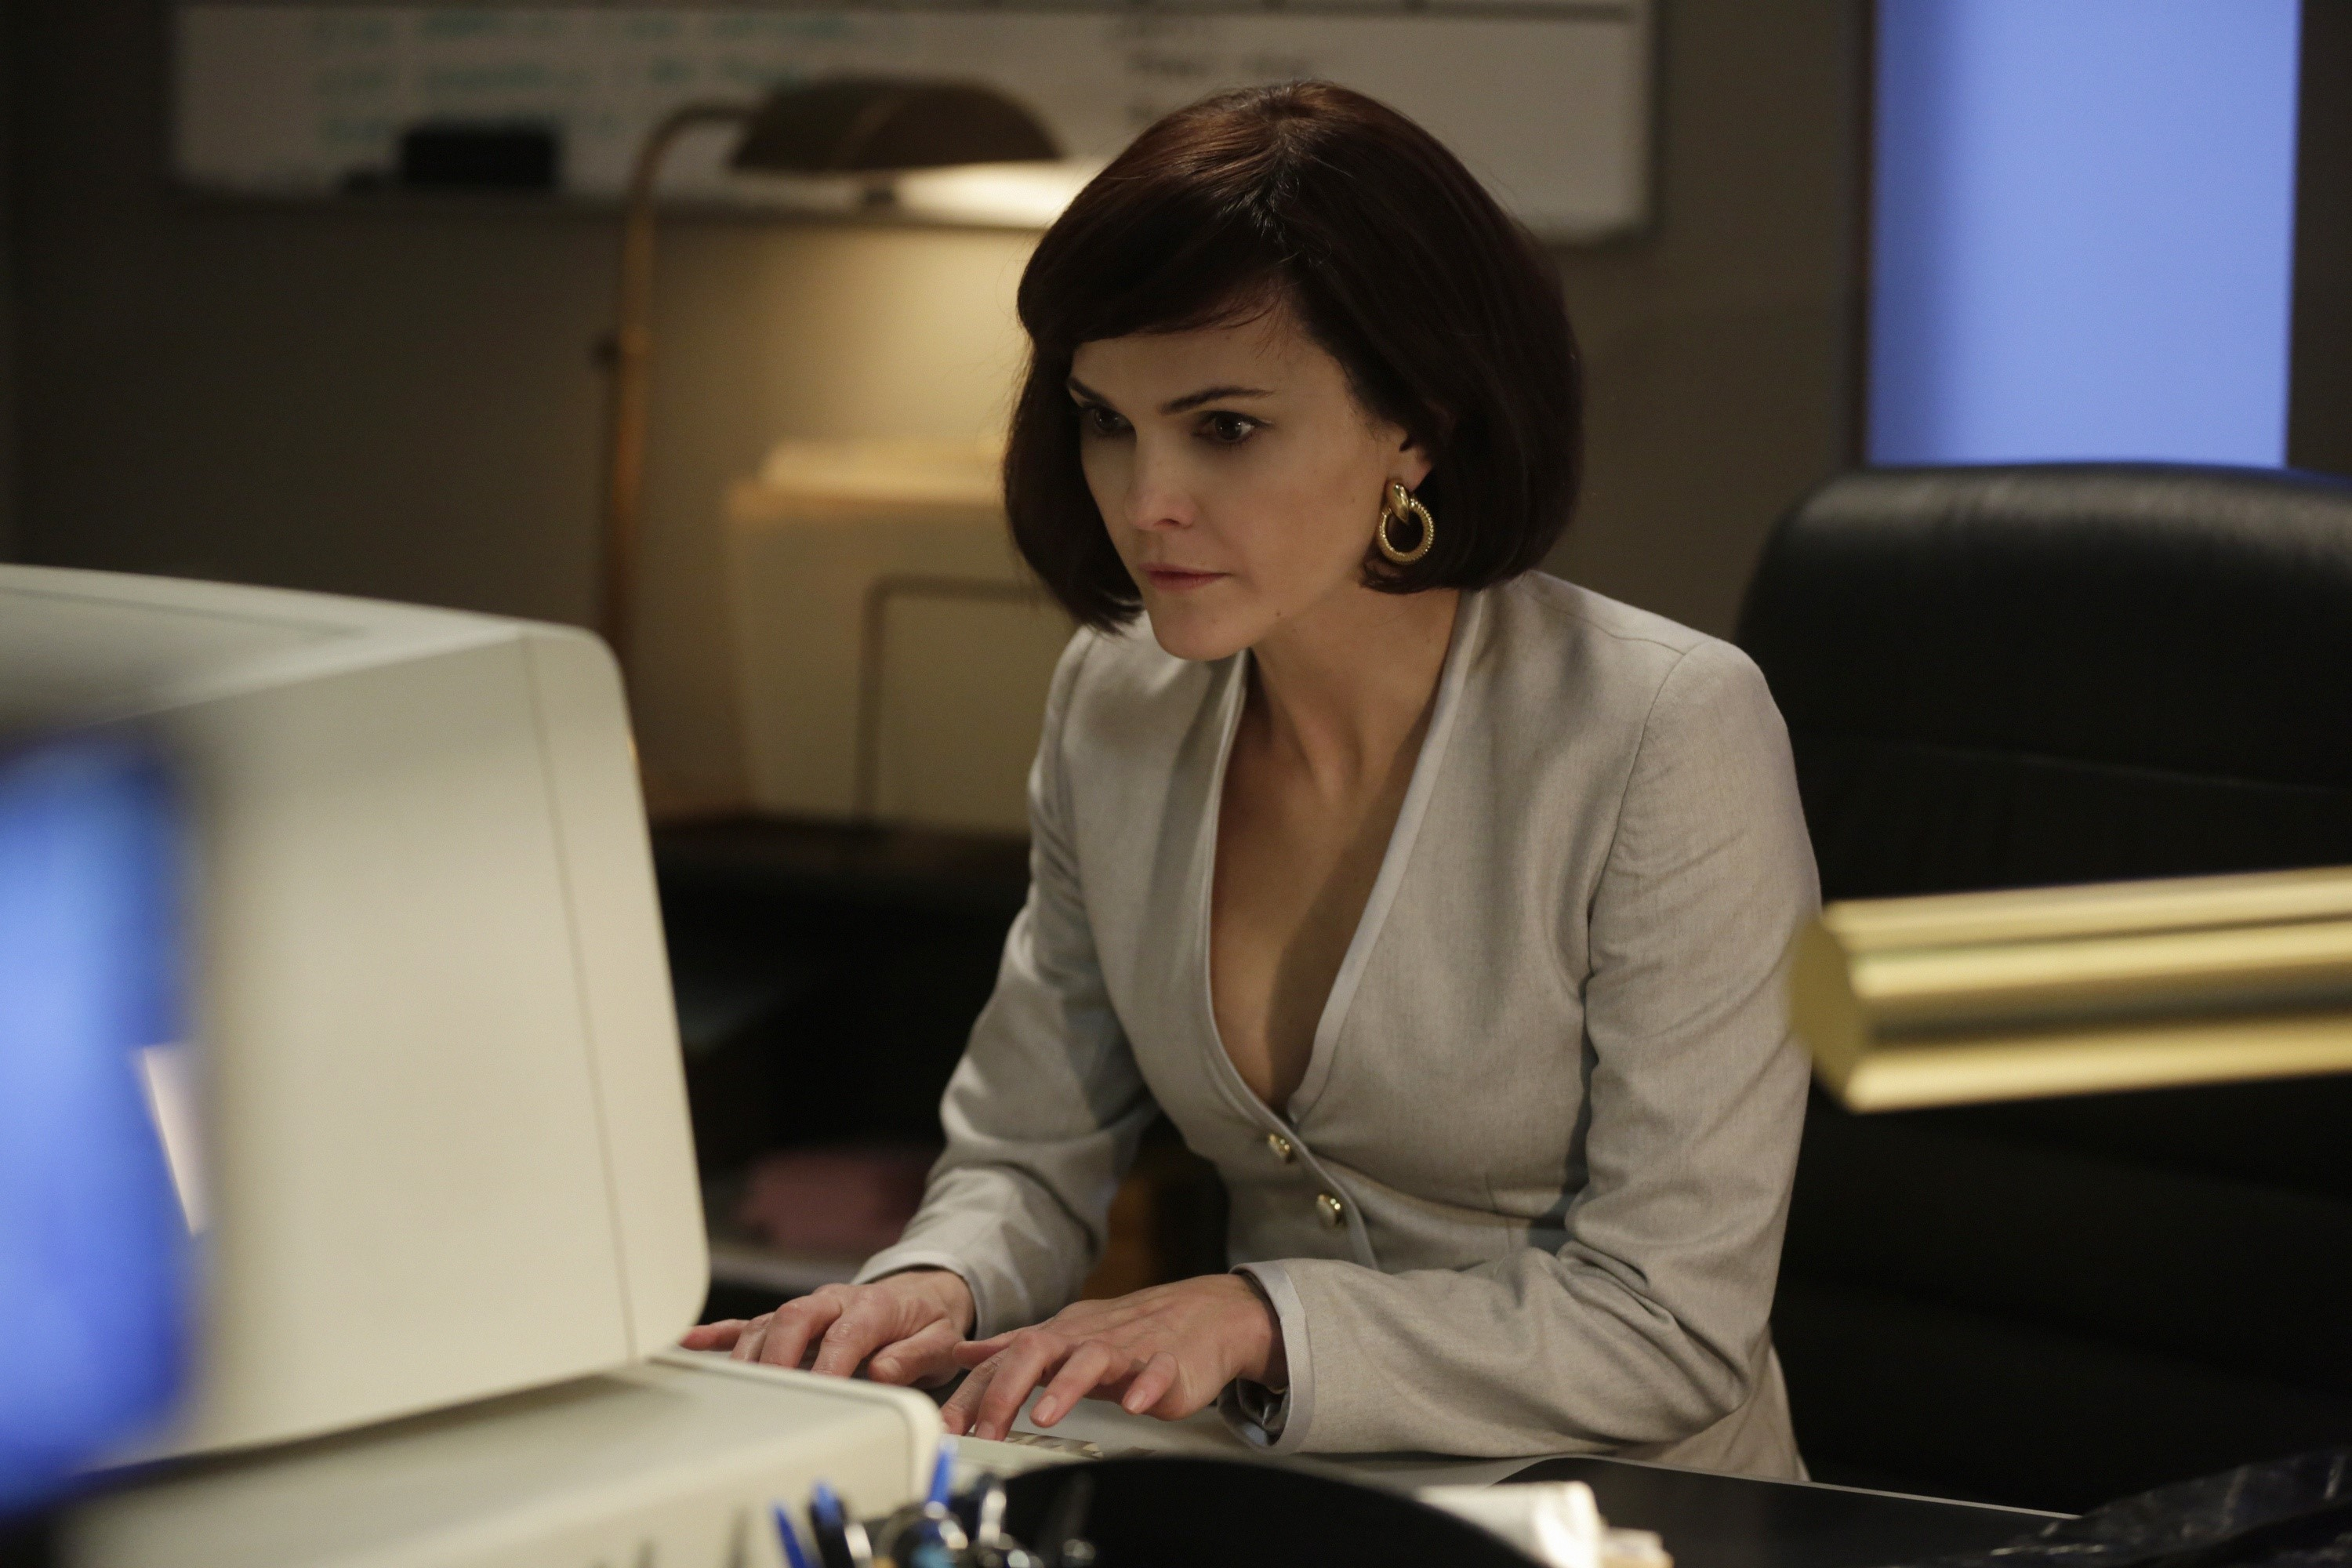face_no_mask: (1002, 81, 1571, 658)
